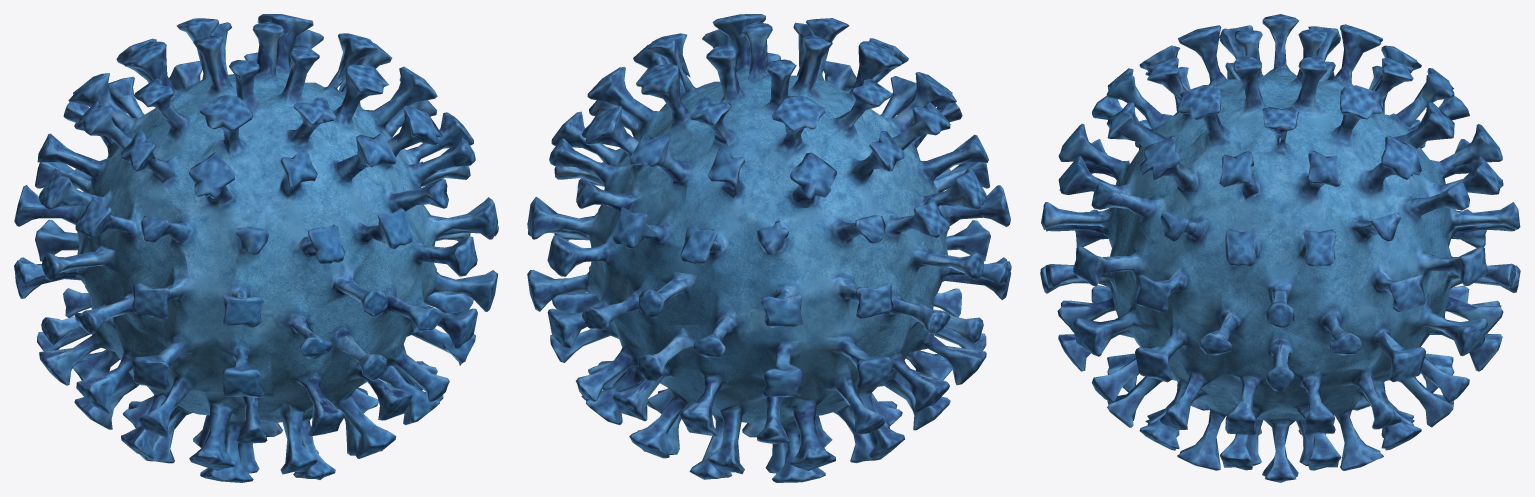
File: Char_Virus.glb
3 views of the same model, side by side, from view 1: azimuth 30°, elevation 25°; view 2: azimuth 150°, elevation 25°; view 3: azimuth 270°, elevation 25° (orthographic).
Size of the model in its own units: 1.9 by 1.76 by 1.9.
1 material, 1 textured.
